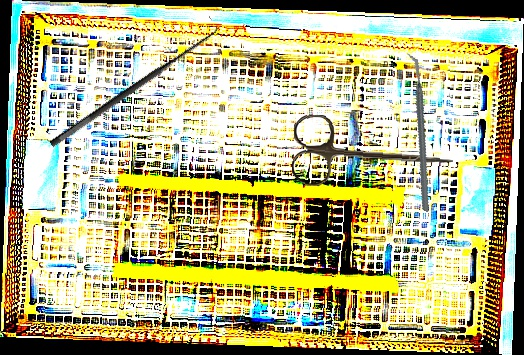Chopper: (358, 52, 479, 213)
Hook Surgical: (40, 14, 223, 150)
Iris Scissors: (291, 113, 455, 194)
